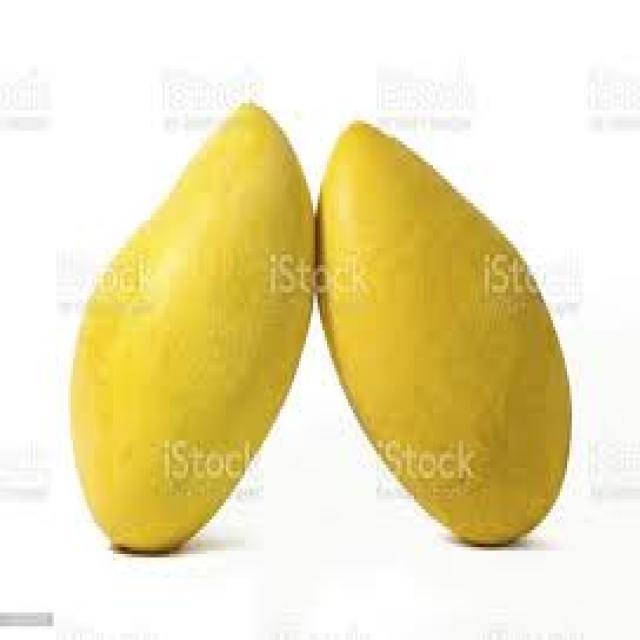mango: (313, 120, 576, 551), (63, 101, 315, 549)
